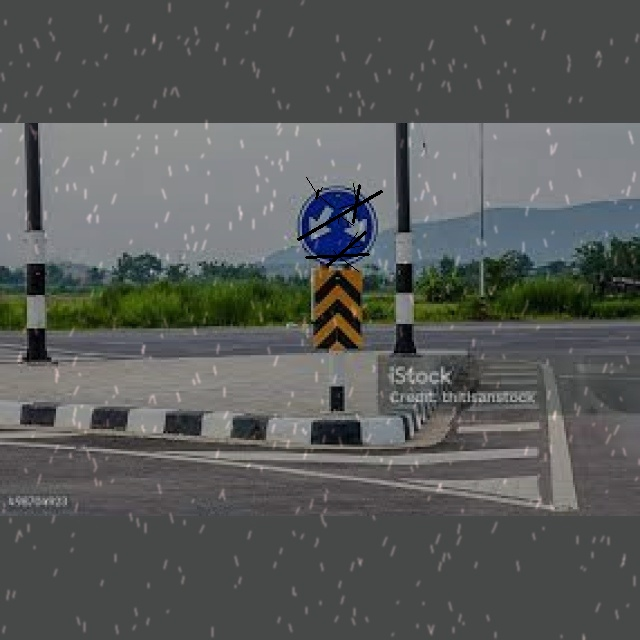Pass_Either_Side: (296, 183, 381, 266)
